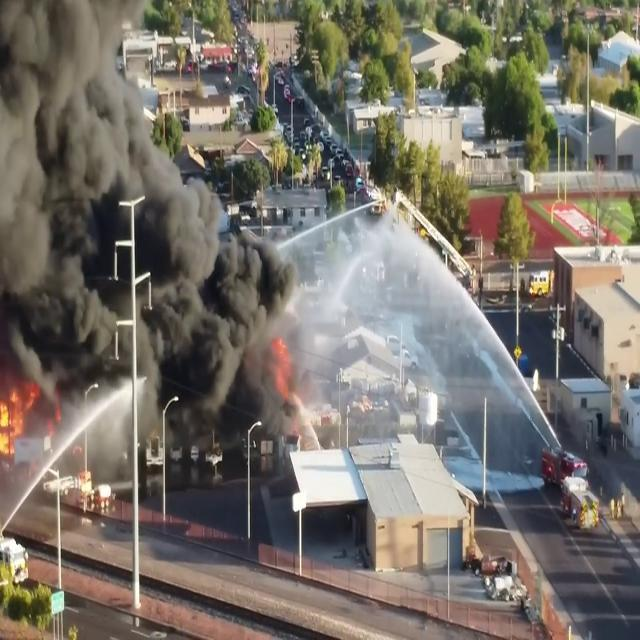Fire: (0, 374, 39, 471)
Smoke: (1, 0, 185, 439), (176, 158, 324, 444)
